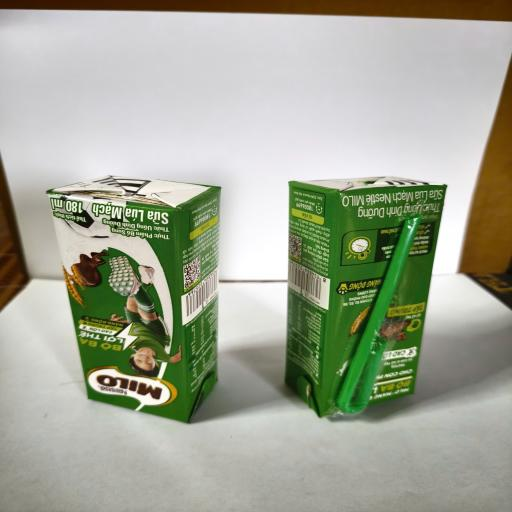milo: (46, 175, 222, 424), (284, 176, 448, 418)
